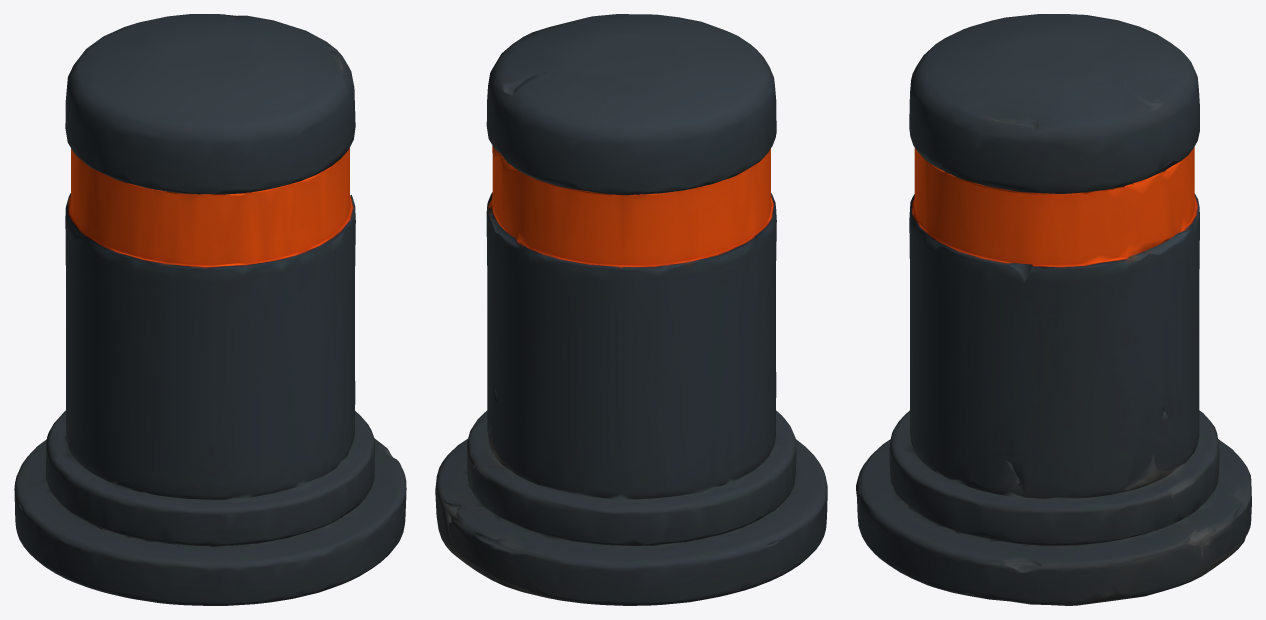
File: tripo_convert_e3f4ca5f-6ea7-4dc1-a9cb-f4b05eae4296.glb
3 renders of one model, left to right at view 1: azimuth 30°, elevation 25°; view 2: azimuth 150°, elevation 25°; view 3: azimuth 270°, elevation 25°, orthographic.
Visible parts, largest first — view 1: tripo_node_e3f4ca5f-6ea7-4dc1-a9cb-f4b05eae4296; view 2: tripo_node_e3f4ca5f-6ea7-4dc1-a9cb-f4b05eae4296; view 3: tripo_node_e3f4ca5f-6ea7-4dc1-a9cb-f4b05eae4296.
Boxes of the visible parts, <box> form: tripo_node_e3f4ca5f-6ea7-4dc1-a9cb-f4b05eae4296: <box>14,14,406,605</box>; tripo_node_e3f4ca5f-6ea7-4dc1-a9cb-f4b05eae4296: <box>435,14,827,605</box>; tripo_node_e3f4ca5f-6ea7-4dc1-a9cb-f4b05eae4296: <box>856,14,1251,605</box>.
Bounding box in the file's own units: 0.7419 × 0.9785 × 0.7431.
Materials: 1 (1 with a texture image).
